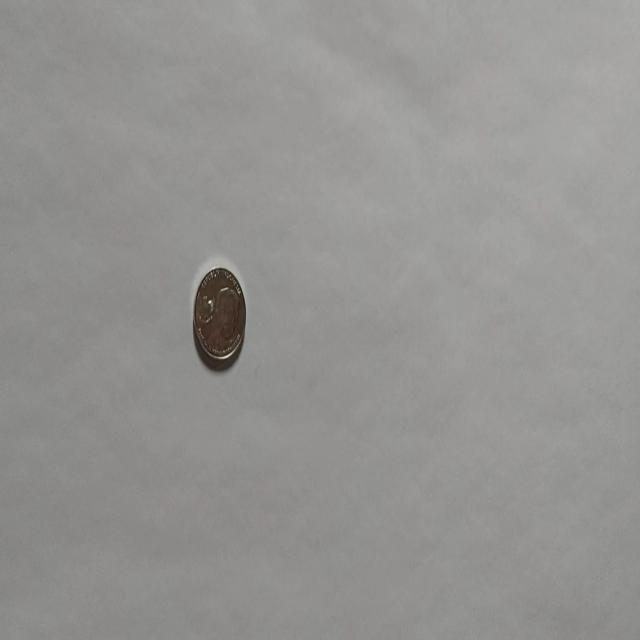seratus rupiah: (192, 265, 246, 370)
